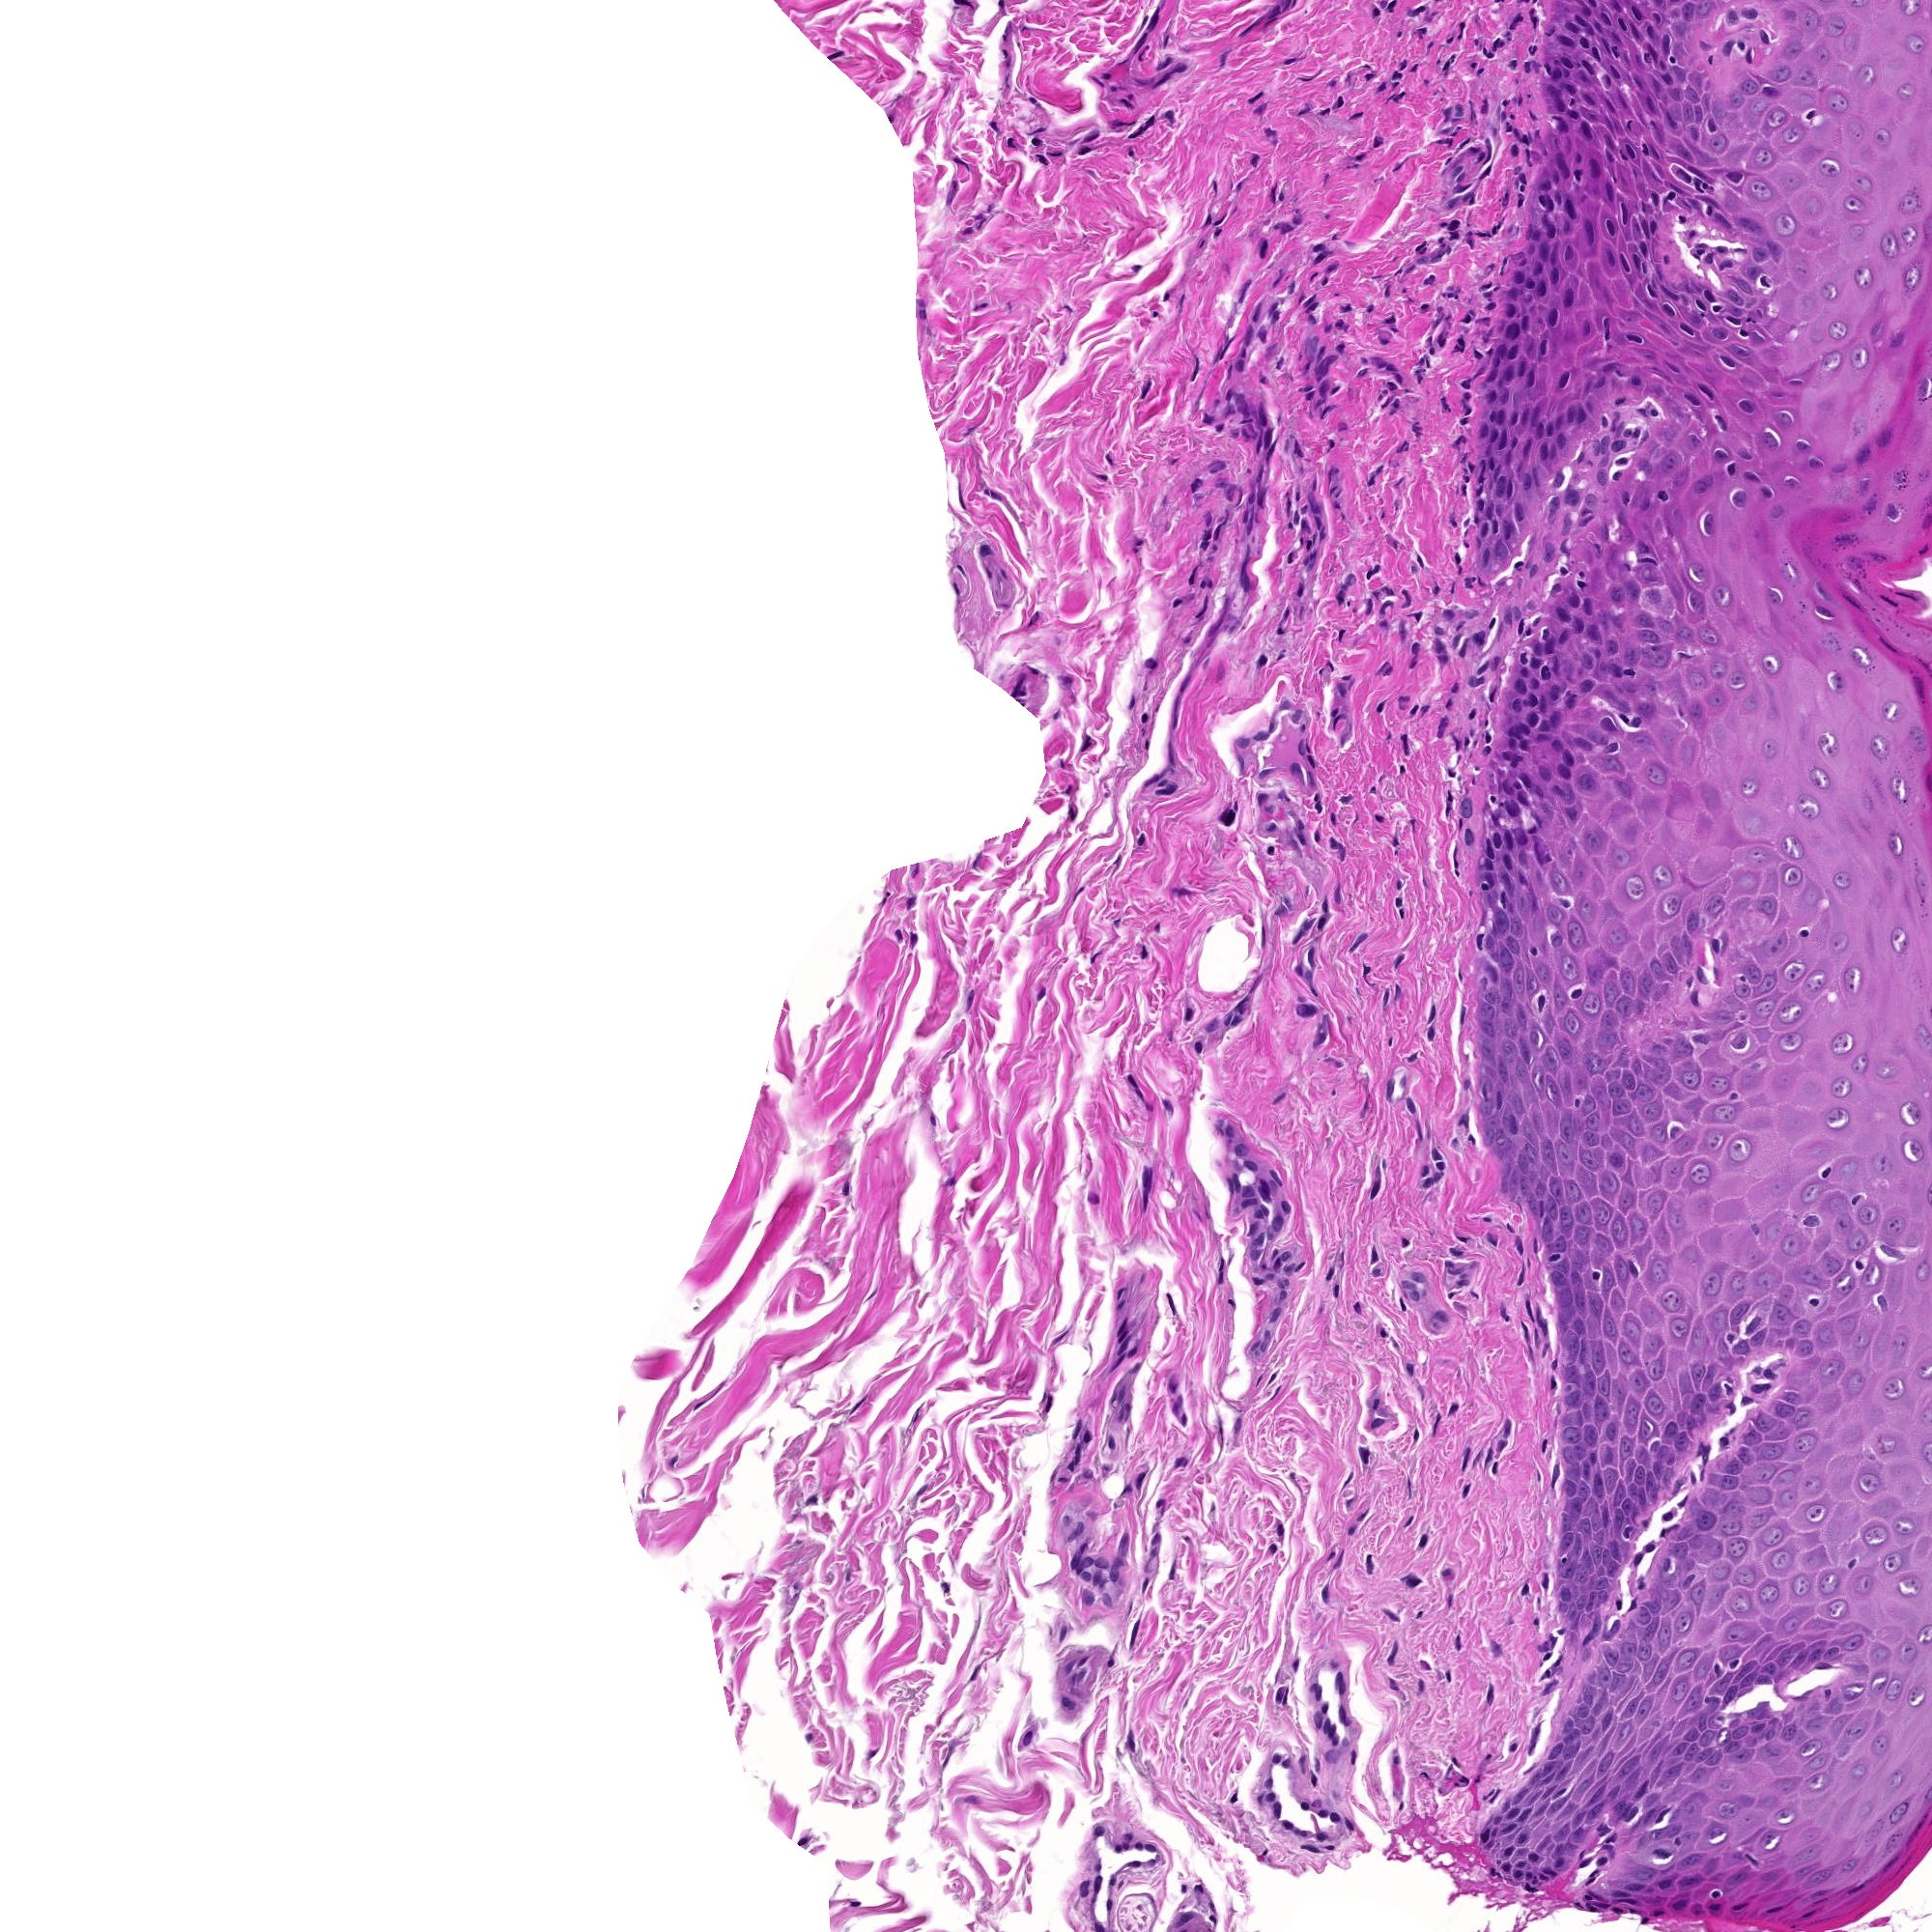epithelial: (1511, 271, 1545, 303), (1231, 416, 1263, 448), (1122, 527, 1154, 559), (1233, 1180, 1265, 1212), (1247, 1184, 1279, 1215), (1226, 1173, 1258, 1205), (1240, 1235, 1272, 1267), (1106, 1277, 1138, 1309), (1108, 1394, 1139, 1426), (1318, 1541, 1350, 1573), (1523, 271, 1555, 303), (1569, 113, 1601, 145), (1479, 391, 1511, 423), (1507, 264, 1539, 295), (1557, 99, 1589, 131), (1495, 290, 1527, 322), (1569, 27, 1601, 58), (1495, 303, 1527, 334), (1847, 439, 1879, 471), (1522, 253, 1553, 285), (1530, 437, 1562, 469), (1594, 352, 1626, 384), (1670, 159, 1702, 191), (1626, 234, 1658, 265), (1881, 324, 1913, 356), (1622, 242, 1654, 274), (1651, 62, 1683, 94), (1654, 278, 1686, 310), (1654, 104, 1686, 136), (1672, 311, 1704, 343), (1637, 274, 1668, 306), (1504, 257, 1536, 288), (1744, 73, 1776, 104), (1718, 281, 1750, 313), (1737, 257, 1769, 288), (1486, 464, 1518, 495), (1465, 451, 1497, 483), (1677, 425, 1709, 456), (1522, 410, 1553, 442), (1767, 403, 1799, 435), (1594, 67, 1626, 99), (1550, 403, 1582, 435), (1594, 226, 1626, 258), (1598, 110, 1629, 142), (1654, 34, 1686, 65), (1493, 398, 1525, 430), (1605, 320, 1637, 352), (1594, 120, 1626, 152), (1470, 341, 1502, 373), (1523, 182, 1555, 214), (1500, 343, 1532, 375), (1679, 90, 1711, 122), (1642, 2, 1674, 34), (1674, 271, 1706, 303), (1520, 435, 1552, 467), (1555, 34, 1587, 65), (1633, 225, 1665, 257), (1486, 375, 1518, 407), (1603, 203, 1635, 235), (1642, 44, 1674, 76), (1472, 366, 1504, 398), (1516, 702, 1548, 734), (1548, 754, 1580, 786), (1500, 715, 1532, 747), (1504, 823, 1536, 855), (1507, 782, 1539, 814), (1477, 826, 1509, 858), (1536, 706, 1568, 738), (1555, 685, 1587, 717), (1472, 867, 1504, 899), (1566, 727, 1598, 759), (1493, 828, 1525, 860), (1822, 665, 1854, 697), (1629, 694, 1661, 725), (1518, 669, 1550, 701), (1835, 584, 1867, 616), (1548, 768, 1580, 800), (1504, 768, 1536, 800), (1451, 791, 1483, 823), (1698, 888, 1730, 920), (1668, 929, 1700, 961), (1683, 554, 1714, 586), (1493, 874, 1525, 906), (1476, 876, 1507, 908), (1594, 679, 1626, 711), (1642, 635, 1674, 667), (1479, 793, 1511, 824), (1553, 782, 1585, 814), (1468, 830, 1500, 862), (1589, 517, 1621, 548), (1525, 803, 1557, 835), (1539, 694, 1571, 725), (1495, 931, 1527, 962), (1518, 722, 1550, 754), (1615, 1253, 1647, 1284), (1594, 1415, 1626, 1447), (1654, 1414, 1686, 1445), (1683, 1387, 1714, 1419), (1737, 1309, 1769, 1341), (1698, 1376, 1730, 1408), (1686, 1357, 1718, 1389), (1530, 1212, 1562, 1244), (1585, 1392, 1617, 1424), (1794, 1205, 1826, 1237), (1483, 1083, 1514, 1115), (1739, 1415, 1771, 1447), (1555, 1357, 1587, 1389), (1541, 1233, 1573, 1265), (1789, 1327, 1821, 1359), (1472, 1012, 1504, 1044), (1582, 1341, 1614, 1373), (1592, 1021, 1624, 1053), (1472, 1035, 1504, 1067), (1651, 1115, 1683, 1146), (1592, 1007, 1624, 1039), (1474, 984, 1506, 1016), (1523, 1192, 1555, 1224), (1591, 1168, 1622, 1200), (1486, 1054, 1518, 1086), (1479, 1118, 1511, 1150), (1851, 1200, 1882, 1231), (1493, 1168, 1525, 1200), (1642, 1035, 1674, 1067), (1645, 1836, 1677, 1868), (1663, 1888, 1695, 1920), (1674, 1865, 1706, 1897), (1723, 1891, 1755, 1923), (1534, 1752, 1566, 1783), (1573, 1881, 1605, 1913), (1624, 1776, 1656, 1808), (1587, 1813, 1619, 1845), (1591, 1704, 1622, 1736), (1506, 1799, 1537, 1831), (1698, 1813, 1730, 1845), (1578, 1794, 1610, 1826), (1601, 1893, 1633, 1925), (1589, 1500, 1621, 1532), (1642, 1895, 1674, 1927), (1727, 1440, 1759, 1472), (1752, 1821, 1783, 1852), (1509, 1859, 1541, 1891), (1716, 1727, 1748, 1759), (1614, 1884, 1645, 1916), (1550, 1548, 1582, 1580), (1615, 1750, 1647, 1782), (1835, 1681, 1867, 1713), (1550, 1729, 1582, 1760), (1709, 1665, 1741, 1697), (1571, 1688, 1603, 1720), (1771, 1640, 1803, 1672), (1504, 1842, 1536, 1874), (1592, 1826, 1624, 1858), (1746, 1704, 1778, 1736), (1525, 1852, 1557, 1884), (1681, 1782, 1713, 1813), (1686, 1706, 1718, 1737), (1596, 1663, 1628, 1695), (1633, 1789, 1665, 1821), (1683, 1757, 1714, 1789), (1541, 1776, 1573, 1808), (1442, 152, 1472, 186), (1500, 403, 1534, 433), (1536, 655, 1569, 685), (1875, 1847, 1905, 1881), (1633, 1803, 1667, 1833), (906, 295, 938, 326), (869, 881, 901, 911), (901, 1399, 931, 1431), (778, 1580, 810, 1610), (1306, 352, 1336, 384), (1247, 409, 1279, 439), (1230, 395, 1261, 425), (1249, 421, 1279, 453), (1207, 42, 1238, 73), (1233, 502, 1263, 534), (1299, 492, 1330, 522), (1242, 483, 1274, 513), (962, 844, 993, 876), (1251, 1175, 1283, 1205), (1212, 1115, 1242, 1146), (1261, 1247, 1293, 1277), (1421, 1300, 1453, 1330), (1421, 1405, 1451, 1437), (959, 1169, 991, 1200), (1083, 1562, 1113, 1594), (1169, 1900, 1200, 1932), (1062, 1661, 1093, 1691), (1063, 1647, 1093, 1679), (1024, 1773, 1054, 1805), (1555, 193, 1585, 225), (1497, 315, 1529, 345), (1532, 186, 1562, 218), (1606, 7, 1637, 39), (1550, 25, 1580, 57), (1553, 281, 1583, 313), (1614, 136, 1645, 166), (1730, 391, 1762, 421), (1573, 214, 1605, 244), (1578, 154, 1610, 184), (1552, 46, 1582, 78), (1560, 400, 1591, 432), (1536, 214, 1568, 244), (1553, 73, 1585, 103), (1594, 175, 1624, 207), (1635, 209, 1665, 241), (1560, 9, 1592, 39), (1539, 260, 1571, 290), (1621, 364, 1651, 396), (1691, 280, 1723, 310), (1476, 418, 1506, 449), (1628, 134, 1660, 165), (1635, 37, 1665, 69), (1684, 170, 1716, 200), (1562, 157, 1594, 188), (1477, 380, 1507, 412), (1569, 60, 1599, 92), (1520, 218, 1550, 249), (1578, 37, 1610, 67), (1472, 448, 1504, 478), (1529, 235, 1559, 267), (1507, 308, 1537, 340), (1511, 359, 1543, 389), (1651, 27, 1681, 58), (1610, 198, 1642, 228), (1748, 237, 1780, 267), (1598, 58, 1629, 88), (1573, 83, 1605, 113), (1541, 76, 1571, 108), (1635, 16, 1665, 48), (1707, 405, 1737, 437), (1589, 2, 1621, 32), (1543, 88, 1575, 119), (1534, 228, 1564, 260), (1555, 18, 1587, 48), (1511, 432, 1541, 464), (1506, 352, 1537, 382), (1591, 310, 1621, 341), (1677, 384, 1709, 414), (1679, 303, 1709, 334), (1718, 303, 1750, 333), (1562, 145, 1592, 177), (1605, 87, 1637, 117), (1553, 237, 1583, 269), (1465, 140, 1497, 170), (1695, 189, 1727, 219), (1668, 138, 1700, 168), (1720, 338, 1750, 370), (1778, 34, 1808, 65), (1713, 345, 1744, 375), (1453, 453, 1484, 483), (1594, 131, 1624, 163), (1497, 426, 1527, 458), (1566, 19, 1598, 50), (1610, 248, 1640, 280), (1548, 96, 1580, 126), (1614, 110, 1644, 142), (1576, 101, 1608, 131), (1677, 188, 1707, 219), (1660, 78, 1691, 108), (1583, 366, 1614, 398), (1704, 198, 1734, 230), (1642, 265, 1672, 297), (1536, 165, 1566, 196), (1525, 51, 1557, 81), (1502, 274, 1534, 304), (1635, 196, 1665, 228), (1474, 274, 1506, 304), (1529, 207, 1560, 237), (1479, 347, 1511, 377), (1612, 16, 1644, 46), (1555, 205, 1585, 237), (1739, 301, 1769, 333), (1536, 242, 1566, 274), (1513, 464, 1545, 494), (1493, 442, 1523, 474), (1688, 177, 1718, 209), (1514, 331, 1545, 363), (1594, 142, 1626, 172), (1543, 19, 1573, 51), (1642, 69, 1674, 99), (1697, 294, 1729, 324), (1548, 78, 1578, 110), (1596, 39, 1626, 71), (1622, 67, 1654, 97), (1594, 90, 1626, 120), (1727, 329, 1757, 361), (1500, 327, 1530, 359), (1886, 462, 1916, 494), (1598, 9, 1628, 41), (1566, 44, 1596, 76), (1651, 41, 1681, 73), (1640, 451, 1672, 481), (1568, 2, 1598, 34), (1644, 117, 1674, 149), (1665, 14, 1697, 44), (1822, 9, 1852, 41), (1476, 320, 1507, 350), (1488, 823, 1518, 855), (1516, 686, 1548, 717), (1506, 669, 1536, 701), (1497, 793, 1527, 824), (1527, 653, 1557, 685), (1529, 632, 1559, 663), (1474, 839, 1504, 870), (1490, 846, 1520, 878), (1539, 676, 1569, 708), (1507, 727, 1537, 759), (1499, 743, 1529, 775), (1578, 824, 1610, 855), (1829, 522, 1859, 554), (1522, 640, 1552, 672), (1562, 609, 1594, 639), (1693, 508, 1723, 540), (1571, 669, 1601, 701), (1578, 617, 1610, 648), (1557, 794, 1587, 826), (1532, 621, 1562, 653), (1599, 655, 1631, 685), (1679, 697, 1711, 727), (1677, 904, 1707, 936), (1548, 621, 1578, 653), (1571, 591, 1601, 623), (1468, 513, 1500, 543), (1529, 759, 1560, 789), (1479, 816, 1511, 846), (1559, 584, 1589, 616), (1592, 709, 1624, 740), (1468, 492, 1500, 522), (1509, 711, 1541, 741), (1598, 605, 1629, 635), (1486, 893, 1518, 924), (1628, 605, 1660, 635), (1509, 660, 1539, 692), (1486, 800, 1518, 830), (1681, 586, 1711, 617), (1525, 690, 1557, 720), (1608, 771, 1638, 803), (1750, 890, 1782, 920), (1525, 708, 1557, 738), (1541, 729, 1571, 761), (1541, 922, 1571, 954), (1596, 722, 1626, 754), (1854, 490, 1886, 520), (1465, 924, 1495, 955), (1875, 497, 1907, 527), (1614, 640, 1645, 671), (1488, 881, 1518, 913), (1568, 568, 1598, 600), (1486, 529, 1518, 559), (1534, 646, 1564, 678), (1518, 814, 1550, 844), (1564, 598, 1594, 630), (1633, 621, 1665, 651), (1522, 775, 1553, 805), (1619, 706, 1651, 736), (1534, 665, 1564, 697), (1633, 548, 1665, 579), (1700, 929, 1730, 961), (1506, 863, 1537, 893), (1629, 488, 1661, 518), (1759, 582, 1789, 614), (1506, 653, 1536, 685), (1479, 805, 1511, 835), (1571, 646, 1603, 676), (1808, 594, 1838, 626), (1520, 660, 1552, 690), (1516, 886, 1546, 918), (1610, 481, 1640, 513), (1509, 817, 1541, 847), (1465, 485, 1495, 517), (1603, 706, 1635, 736), (1571, 499, 1601, 531), (1879, 828, 1909, 860), (1612, 665, 1642, 697), (1477, 863, 1509, 893), (1477, 495, 1507, 527), (1596, 747, 1626, 778), (1660, 888, 1691, 918), (1863, 541, 1893, 573), (1895, 580, 1927, 610), (1840, 547, 1870, 579), (1760, 929, 1790, 961), (1527, 768, 1557, 800), (1587, 534, 1617, 566), (1723, 1297, 1755, 1327), (1497, 1108, 1527, 1139), (1550, 1033, 1580, 1065), (1727, 1330, 1757, 1362), (1767, 1394, 1798, 1426), (1541, 1246, 1571, 1277), (1773, 1387, 1803, 1419), (1766, 1297, 1796, 1329), (1541, 1258, 1571, 1290), (1587, 1263, 1619, 1293), (1629, 970, 1661, 1000), (1877, 1210, 1909, 1240), (1614, 1065, 1644, 1097), (1624, 1364, 1654, 1396), (1619, 991, 1651, 1021), (1509, 1035, 1539, 1067), (1534, 1046, 1566, 1076), (1668, 1031, 1698, 1063), (1612, 1184, 1642, 1215), (1898, 1097, 1930, 1127), (1744, 1408, 1775, 1440), (1562, 1311, 1594, 1341), (1472, 1001, 1502, 1033), (1562, 1332, 1594, 1362), (1642, 1353, 1674, 1384), (1603, 1092, 1635, 1122), (1575, 1366, 1605, 1398), (1867, 1284, 1897, 1316), (1638, 1389, 1668, 1421), (1477, 959, 1507, 991), (1610, 1338, 1640, 1369), (1679, 1090, 1709, 1122), (1594, 1311, 1624, 1343), (1552, 1284, 1583, 1315), (1557, 1419, 1589, 1449), (1608, 991, 1640, 1021), (1566, 1196, 1598, 1226), (1736, 1325, 1766, 1357), (1718, 1327, 1750, 1357), (1658, 1284, 1688, 1316), (1826, 1210, 1858, 1240), (1470, 1821, 1502, 1851), (1610, 1798, 1642, 1828), (1698, 1891, 1729, 1923), (1606, 1881, 1637, 1913), (1518, 1842, 1550, 1872), (1504, 1856, 1534, 1888), (1516, 1870, 1546, 1902), (1543, 1849, 1573, 1881), (1714, 1679, 1746, 1709), (1690, 1504, 1720, 1536), (1507, 1822, 1539, 1852), (1582, 1468, 1614, 1499), (1723, 1861, 1755, 1891), (1743, 1695, 1775, 1725), (1840, 1874, 1870, 1905), (1550, 1578, 1580, 1610), (1562, 1817, 1594, 1847), (1674, 1845, 1706, 1875), (1507, 1780, 1539, 1810), (1695, 1741, 1727, 1771), (1732, 1656, 1762, 1688), (1752, 1658, 1783, 1688), (1622, 1798, 1654, 1828), (1477, 1856, 1509, 1886), (1529, 1759, 1559, 1790), (1580, 1787, 1612, 1817), (1592, 1442, 1624, 1472), (1702, 1654, 1732, 1686), (1525, 1863, 1555, 1895), (1488, 1803, 1518, 1835), (1495, 1810, 1527, 1840), (1631, 1858, 1663, 1888), (1743, 1713, 1773, 1744), (1608, 1497, 1640, 1527), (1576, 1442, 1606, 1474), (1477, 1813, 1509, 1844), (1713, 1465, 1744, 1495), (1555, 1472, 1587, 1502), (1612, 1514, 1642, 1546), (1642, 1817, 1674, 1847), (1709, 1891, 1741, 1921), (1555, 1720, 1587, 1750), (1576, 1619, 1608, 1649), (1589, 1750, 1621, 1780), (1509, 1851, 1539, 1882), (1792, 1898, 1822, 1930), (1755, 1861, 1785, 1893), (1541, 1757, 1573, 1787), (1815, 1637, 1847, 1667), (1571, 1454, 1601, 1486), (1888, 1790, 1920, 1821), (1651, 1550, 1681, 1582), (1642, 1454, 1674, 1484), (1649, 1847, 1679, 1879), (1605, 1790, 1635, 1822), (1552, 1527, 1583, 1557), (1838, 1626, 1870, 1656), (1782, 1642, 1813, 1672), (1729, 1842, 1759, 1874), (1622, 1458, 1654, 1488), (1675, 1720, 1706, 1752), (1603, 1502, 1633, 1534), (1568, 1697, 1598, 1729), (1803, 1640, 1833, 1672), (1721, 1718, 1752, 1750), (1805, 1861, 1836, 1891), (1803, 1881, 1835, 1911), (1642, 1734, 1672, 1766), (1727, 1739, 1757, 1771), (1504, 1812, 1534, 1844), (1640, 1463, 1672, 1493), (1578, 1681, 1608, 1713), (1716, 1491, 1748, 1522), (1755, 1736, 1785, 1767), (1819, 1688, 1849, 1720), (1583, 1578, 1614, 1610), (1585, 1610, 1615, 1642), (1633, 1614, 1665, 1644), (1626, 1806, 1658, 1836), (1727, 1651, 1759, 1681), (1564, 1801, 1594, 1833), (1594, 1541, 1624, 1573), (1663, 1534, 1693, 1566), (1559, 1456, 1591, 1486), (1576, 1585, 1608, 1615), (1555, 1500, 1587, 1530), (1562, 1479, 1592, 1511), (1587, 1660, 1619, 1690), (1631, 1603, 1663, 1633), (1571, 12, 1605, 41), (1658, 1819, 1691, 1847), (938, 173, 968, 203), (941, 573, 971, 603), (901, 855, 931, 885), (773, 1185, 803, 1215), (906, 1016, 936, 1046), (906, 1476, 936, 1506), (833, 1559, 863, 1589), (1246, 402, 1276, 432), (1254, 428, 1284, 458), (1267, 893, 1297, 924), (1327, 674, 1357, 704), (1247, 1196, 1277, 1226), (1219, 1166, 1249, 1196), (1104, 1380, 1134, 1410), (1244, 1330, 1274, 1361), (1244, 1224, 1274, 1254), (1108, 1309, 1138, 1339), (1053, 1688, 1083, 1718), (1054, 1654, 1085, 1684), (1539, 58, 1569, 88), (1483, 402, 1513, 432), (1548, 364, 1578, 395), (1495, 338, 1525, 368), (1537, 303, 1568, 333), (1720, 161, 1750, 191), (1870, 423, 1900, 453), (1534, 414, 1564, 444), (1619, 322, 1649, 352), (1493, 359, 1523, 389), (1571, 50, 1601, 80), (1548, 110, 1578, 140), (1484, 338, 1514, 368), (1688, 288, 1718, 318), (1706, 318, 1736, 349), (1752, 425, 1782, 455), (1596, 244, 1626, 274), (1486, 426, 1516, 456), (1757, 234, 1787, 264), (1529, 172, 1559, 202), (1755, 76, 1785, 106), (1624, 18, 1654, 48), (1598, 30, 1628, 60), (1479, 361, 1509, 391), (1652, 295, 1683, 326), (1635, 88, 1665, 119), (1706, 441, 1736, 471), (1546, 425, 1576, 455), (1527, 331, 1557, 361), (1571, 313, 1601, 343), (1472, 407, 1502, 437), (1799, 448, 1829, 478), (1497, 280, 1527, 310), (1585, 430, 1615, 460), (1603, 430, 1633, 460), (1654, 448, 1684, 478), (1787, 432, 1817, 462), (1621, 0, 1651, 30), (1550, 184, 1580, 214), (1518, 398, 1548, 428), (1736, 462, 1766, 492), (1520, 166, 1550, 196), (1640, 182, 1670, 212), (1661, 60, 1691, 90), (1734, 71, 1764, 101), (1683, 161, 1713, 191), (1553, 156, 1583, 186), (1543, 161, 1573, 191), (1587, 9, 1617, 39), (1658, 51, 1688, 81), (1589, 359, 1619, 389), (1631, 449, 1661, 479), (1638, 138, 1668, 168), (1587, 34, 1617, 64), (1488, 322, 1518, 352), (1766, 58, 1796, 88), (1543, 464, 1573, 494), (1484, 416, 1514, 446), (1534, 267, 1564, 297), (1511, 403, 1541, 433), (1651, 304, 1681, 334), (1553, 747, 1583, 777), (1571, 766, 1601, 796), (1610, 656, 1640, 686), (1509, 644, 1539, 674), (1493, 513, 1523, 543), (1516, 770, 1546, 800), (1596, 632, 1626, 662), (1601, 580, 1631, 610), (1500, 690, 1530, 720), (1725, 483, 1755, 513), (1491, 771, 1522, 801), (1486, 908, 1516, 938), (1527, 842, 1557, 872), (1474, 853, 1504, 883), (1617, 575, 1647, 605), (1631, 538, 1661, 568), (1490, 863, 1520, 893), (1499, 725, 1529, 755), (1557, 481, 1587, 511), (1539, 628, 1569, 658), (1504, 497, 1534, 527), (1529, 717, 1559, 747), (1481, 538, 1511, 568), (1495, 803, 1525, 833), (1545, 775, 1575, 805), (1647, 481, 1677, 511), (1479, 511, 1509, 541), (1610, 701, 1640, 731), (1507, 842, 1537, 872), (1642, 755, 1672, 786), (1638, 580, 1668, 610), (1702, 685, 1732, 715), (1762, 497, 1792, 527), (1490, 941, 1520, 971), (1522, 833, 1552, 863), (1874, 630, 1904, 660), (1534, 538, 1564, 568), (1606, 504, 1637, 534), (1615, 816, 1645, 846), (1591, 653, 1621, 683), (1674, 915, 1704, 945), (1550, 736, 1580, 766), (1658, 508, 1688, 538), (1550, 679, 1580, 709), (1534, 724, 1564, 754), (1559, 918, 1589, 948), (1518, 936, 1548, 966), (1601, 1145, 1631, 1175), (1559, 1384, 1589, 1414), (1725, 1026, 1755, 1056), (1575, 1421, 1605, 1451), (1743, 1322, 1773, 1352), (1552, 1113, 1582, 1143), (1472, 1024, 1502, 1054), (1580, 1292, 1610, 1322), (1675, 1407, 1706, 1437), (1532, 1134, 1562, 1164), (1506, 1001, 1536, 1031), (1815, 1249, 1845, 1279), (1576, 1047, 1606, 1077), (1601, 1076, 1631, 1106), (1550, 1201, 1580, 1231), (1785, 1311, 1815, 1341), (1629, 1419, 1660, 1449), (1707, 1001, 1737, 1031), (1875, 1235, 1905, 1265), (1637, 1095, 1667, 1125), (1575, 1122, 1605, 1152), (1790, 1260, 1821, 1290), (1534, 1858, 1564, 1888), (1651, 1868, 1681, 1898), (1497, 1796, 1527, 1826), (1491, 1836, 1522, 1867), (1644, 1799, 1674, 1829), (1621, 1872, 1651, 1902), (1490, 1852, 1520, 1882), (1541, 1736, 1571, 1766), (1718, 1453, 1748, 1483), (1759, 1895, 1789, 1925), (1700, 1882, 1730, 1913), (1560, 1491, 1591, 1522), (1504, 1790, 1534, 1821), (1718, 1644, 1748, 1674), (1775, 1716, 1805, 1746), (1635, 1594, 1665, 1624), (1635, 1468, 1665, 1499), (1697, 1686, 1727, 1716), (1619, 1691, 1649, 1721), (1683, 1895, 1713, 1925), (1645, 1658, 1675, 1688), (1658, 1755, 1688, 1785), (1746, 1663, 1776, 1693), (1546, 1835, 1576, 1865), (1599, 1536, 1629, 1566), (1596, 1642, 1626, 1672), (1635, 1900, 1665, 1930), (1546, 1817, 1576, 1847), (1624, 1479, 1654, 1509), (1665, 1734, 1695, 1764), (1706, 1683, 1736, 1713), (1799, 1707, 1829, 1737), (1679, 1686, 1709, 1716), (1695, 1851, 1725, 1881), (1543, 1789, 1573, 1819), (1645, 1442, 1675, 1472), (1573, 1545, 1603, 1575), (1675, 1642, 1706, 1672), (1729, 1785, 1759, 1815), (1599, 1778, 1629, 1808), (1658, 1583, 1688, 1614), (1606, 1483, 1637, 1513), (1594, 212, 1626, 241), (1654, 180, 1686, 209), (1548, 149, 1576, 180), (1691, 373, 1720, 405), (1539, 410, 1571, 439), (1461, 464, 1493, 492), (1472, 540, 1500, 571), (1598, 732, 1626, 764), (1516, 653, 1548, 681), (1583, 1891, 1615, 1920), (1619, 1488, 1647, 1520), (936, 1732, 964, 1762), (1734, 209, 1762, 239), (1601, 23, 1631, 51), (1546, 600, 1576, 628), (1723, 663, 1753, 692), (1509, 1146, 1539, 1175), (1663, 1421, 1693, 1449), (1598, 1552, 1626, 1582)
fibroblast and endothelial: (1302, 1803, 1334, 1836), (892, 885, 924, 916), (936, 1164, 968, 1196), (916, 1104, 948, 1136), (656, 1445, 688, 1477), (1148, 62, 1180, 94), (1023, 134, 1054, 166), (1405, 232, 1437, 264), (1125, 25, 1157, 57), (1138, 4, 1169, 35), (1325, 322, 1357, 354), (1304, 235, 1336, 267), (1240, 81, 1272, 113), (1405, 16, 1437, 48), (1322, 87, 1353, 119), (1240, 299, 1272, 331), (1240, 318, 1272, 350), (1307, 393, 1339, 425), (1304, 96, 1336, 127), (1315, 253, 1346, 285), (1355, 60, 1387, 92), (1201, 214, 1233, 246), (1288, 96, 1320, 127), (1093, 442, 1125, 474), (991, 39, 1023, 71), (1180, 464, 1212, 495), (1254, 117, 1286, 149), (1353, 292, 1385, 324), (1058, 134, 1090, 166), (1148, 34, 1180, 65), (1368, 324, 1399, 356), (1086, 460, 1118, 492), (1316, 456, 1348, 488), (1212, 801, 1244, 833), (1320, 828, 1352, 860), (1306, 906, 1338, 938), (970, 534, 1001, 566), (1054, 784, 1086, 816), (1389, 725, 1421, 757), (1056, 796, 1088, 828), (1003, 676, 1035, 708), (1254, 833, 1286, 865), (1125, 824, 1157, 856), (1284, 816, 1316, 847), (1288, 911, 1320, 943), (1136, 648, 1168, 679), (1371, 575, 1403, 607), (1279, 752, 1311, 784), (1325, 617, 1357, 649), (1116, 686, 1148, 718), (1288, 732, 1320, 764), (1364, 582, 1396, 614), (1131, 1162, 1162, 1194), (1116, 1065, 1148, 1097), (1242, 1265, 1274, 1297), (1368, 1316, 1399, 1348), (1373, 1072, 1405, 1104), (1261, 1205, 1293, 1237), (1157, 1369, 1189, 1401), (1129, 1182, 1161, 1214), (1258, 1299, 1290, 1330), (1341, 1290, 1373, 1322), (1371, 980, 1403, 1012), (1077, 1182, 1109, 1214), (1256, 1361, 1288, 1392), (1161, 1382, 1192, 1414), (1401, 1261, 1433, 1293), (1062, 1412, 1093, 1444), (1410, 1152, 1442, 1184), (1254, 1201, 1286, 1233), (1077, 1870, 1109, 1902), (1300, 1674, 1332, 1706), (1263, 1744, 1295, 1776), (1164, 1445, 1196, 1477), (1254, 1782, 1286, 1813), (1405, 1525, 1437, 1557), (1263, 1513, 1295, 1545), (1376, 1640, 1408, 1672), (1279, 1647, 1311, 1679), (1012, 1720, 1044, 1752), (1306, 1833, 1338, 1865), (1097, 1557, 1129, 1589), (1304, 1704, 1336, 1736), (1380, 1744, 1412, 1776), (1062, 1514, 1093, 1546), (1392, 1506, 1424, 1537), (1129, 1568, 1161, 1599), (1093, 1548, 1125, 1580), (1286, 1744, 1318, 1776), (1322, 1707, 1353, 1739), (1325, 1741, 1357, 1773), (1122, 1822, 1154, 1854), (1247, 1838, 1279, 1870), (1470, 156, 1502, 188), (1499, 48, 1530, 80), (1454, 223, 1486, 255), (1472, 37, 1504, 69), (1683, 232, 1714, 264), (1709, 248, 1741, 280), (1465, 219, 1497, 251), (1463, 623, 1495, 655), (1447, 725, 1479, 757), (1445, 635, 1477, 667), (1454, 566, 1486, 598), (1437, 784, 1468, 816), (1752, 1357, 1783, 1389), (1447, 1104, 1479, 1136), (1527, 1307, 1559, 1339), (1677, 982, 1709, 1014), (1750, 1366, 1782, 1398), (1440, 1254, 1472, 1286), (1445, 1764, 1477, 1796), (1576, 1861, 1608, 1893), (1509, 1571, 1541, 1603), (1536, 1624, 1568, 1656), (1497, 1730, 1529, 1762), (1479, 1631, 1511, 1663), (1461, 1762, 1493, 1794), (1378, 387, 1408, 421), (1293, 823, 1327, 853), (1378, 1668, 1408, 1702), (1297, 1817, 1327, 1851), (819, 39, 849, 71), (876, 101, 906, 133), (885, 918, 915, 950), (842, 1391, 874, 1421), (931, 1571, 961, 1603), (856, 1737, 886, 1769), (794, 1720, 824, 1752), (1007, 127, 1039, 157), (1132, 108, 1164, 138), (1247, 232, 1277, 264), (1028, 143, 1058, 175), (1382, 81, 1414, 111), (1069, 133, 1099, 165), (1076, 120, 1106, 152), (1325, 308, 1355, 340), (1382, 58, 1412, 90), (1039, 140, 1070, 170), (1258, 297, 1288, 329), (1295, 288, 1327, 318), (1373, 354, 1405, 384), (1164, 53, 1194, 85), (1154, 48, 1184, 80), (1300, 375, 1332, 405), (1238, 143, 1269, 175), (994, 127, 1026, 157), (1269, 212, 1299, 244), (1196, 407, 1228, 437), (1131, 373, 1161, 405), (1196, 205, 1228, 235), (1330, 292, 1361, 324), (1155, 58, 1187, 88), (1224, 347, 1254, 379), (1311, 375, 1343, 405), (1341, 99, 1371, 131), (1410, 290, 1440, 322), (1368, 349, 1398, 380), (1261, 177, 1292, 209), (1389, 432, 1419, 464), (1274, 44, 1304, 76), (1389, 50, 1419, 81), (1115, 138, 1146, 168), (1152, 280, 1182, 311), (1120, 253, 1152, 283), (1421, 326, 1451, 357), (1419, 241, 1451, 271), (1401, 414, 1433, 444), (993, 16, 1023, 48), (1253, 4, 1284, 34), (1408, 347, 1440, 377), (1090, 60, 1120, 92), (1180, 354, 1212, 384), (1141, 67, 1173, 97), (1322, 334, 1353, 364), (1292, 377, 1323, 407), (1217, 380, 1247, 412), (1277, 207, 1307, 239), (1399, 359, 1431, 389), (1316, 426, 1346, 458), (1410, 241, 1440, 272), (1139, 27, 1171, 57), (1203, 412, 1235, 442), (1357, 462, 1387, 494), (1129, 67, 1159, 99), (1132, 16, 1162, 48), (1265, 345, 1295, 377), (1201, 453, 1233, 483), (1244, 92, 1276, 122), (1348, 356, 1378, 387), (1150, 23, 1182, 53), (1307, 264, 1338, 295), (1233, 322, 1263, 354), (1246, 646, 1277, 676), (1302, 789, 1334, 819), (1072, 727, 1102, 759), (1295, 538, 1325, 570), (1362, 803, 1394, 833), (1295, 745, 1327, 775), (1191, 522, 1223, 552), (1247, 782, 1277, 814), (1403, 694, 1433, 725), (1357, 556, 1387, 587), (1309, 890, 1339, 922), (1129, 701, 1159, 732), (1139, 764, 1171, 794), (1230, 564, 1261, 594), (1293, 527, 1325, 557), (1166, 876, 1196, 908), (1129, 936, 1159, 968), (1307, 823, 1338, 855), (1200, 518, 1231, 548), (1369, 591, 1401, 621), (1256, 812, 1286, 844), (1019, 656, 1051, 686), (1189, 568, 1221, 598), (1401, 600, 1433, 630), (1274, 541, 1306, 571), (1053, 665, 1083, 697), (1017, 603, 1049, 633), (1399, 633, 1431, 663), (1384, 869, 1415, 899), (1053, 775, 1085, 805), (1247, 768, 1277, 800), (1384, 754, 1415, 784), (1391, 582, 1422, 612), (1008, 662, 1040, 692), (1131, 711, 1161, 743), (1341, 927, 1371, 959), (1318, 803, 1348, 835), (1265, 614, 1295, 646), (1382, 943, 1414, 973), (1371, 653, 1401, 685), (1387, 685, 1419, 715), (1230, 552, 1260, 584), (1380, 826, 1410, 858), (1330, 570, 1361, 602), (1382, 878, 1414, 908), (1286, 747, 1316, 778), (1421, 573, 1451, 605), (1322, 879, 1352, 911), (1154, 763, 1184, 794), (1226, 738, 1256, 770), (1403, 545, 1433, 577), (1155, 743, 1187, 773), (1327, 835, 1357, 867), (1279, 499, 1309, 531), (1376, 690, 1407, 722), (1415, 1008, 1447, 1039), (1359, 1173, 1391, 1203), (1182, 1031, 1214, 1062), (1109, 1332, 1139, 1364), (1359, 1240, 1389, 1272), (1412, 1162, 1444, 1192), (1295, 994, 1327, 1024), (1281, 1251, 1311, 1283), (1306, 1021, 1336, 1053), (1270, 1191, 1300, 1223), (1391, 1226, 1421, 1258), (1155, 1286, 1185, 1318), (1315, 1258, 1346, 1288), (1267, 1242, 1299, 1272), (1421, 1139, 1451, 1171), (1394, 1352, 1424, 1384), (1394, 1090, 1426, 1120), (1108, 1320, 1138, 1352), (1205, 1253, 1237, 1283), (1320, 1274, 1352, 1304), (1152, 1090, 1184, 1120), (1399, 1419, 1430, 1451), (1120, 1352, 1150, 1384), (1387, 1290, 1419, 1320), (1382, 975, 1412, 1007), (1361, 1256, 1392, 1286), (1162, 1394, 1194, 1424), (1168, 1403, 1200, 1433), (1224, 1132, 1254, 1164), (1421, 1155, 1453, 1185), (1118, 1336, 1148, 1368), (1258, 1164, 1290, 1194), (1267, 1274, 1299, 1304), (1215, 1286, 1246, 1318), (1122, 1074, 1152, 1106), (1263, 1083, 1295, 1113), (1044, 1322, 1076, 1352), (1256, 1215, 1288, 1246), (1299, 973, 1329, 1005), (1231, 1139, 1261, 1171), (1131, 1831, 1162, 1861), (1315, 1713, 1345, 1744), (1316, 1801, 1348, 1831), (1261, 1792, 1292, 1824), (1120, 1847, 1150, 1879), (1286, 1817, 1316, 1849), (1116, 1829, 1148, 1859), (1334, 1808, 1364, 1840), (1348, 1438, 1380, 1468), (1398, 1566, 1428, 1598), (1083, 1815, 1115, 1845), (1118, 1615, 1150, 1645), (1265, 1681, 1297, 1711), (1184, 1872, 1214, 1904), (1353, 1546, 1384, 1578), (1072, 1582, 1102, 1614), (1219, 1782, 1249, 1813), (1115, 1727, 1146, 1757), (1106, 1831, 1136, 1863), (1086, 1867, 1118, 1897), (1069, 1872, 1099, 1904), (1299, 1762, 1329, 1794), (1320, 1695, 1350, 1727), (1145, 1488, 1175, 1520), (1097, 1865, 1127, 1897), (1093, 1888, 1123, 1920), (1376, 1601, 1408, 1631), (1253, 1767, 1284, 1798), (1095, 1645, 1125, 1677), (1300, 1790, 1330, 1822), (1265, 1803, 1295, 1835), (959, 1658, 991, 1688), (1069, 1545, 1099, 1576), (1302, 1684, 1332, 1716), (1070, 1559, 1100, 1591), (1111, 1822, 1143, 1852), (1169, 1872, 1200, 1904), (1047, 1615, 1077, 1647), (1320, 1672, 1352, 1702), (1139, 1523, 1171, 1553), (1108, 1527, 1139, 1557), (1272, 1748, 1304, 1778), (1085, 1582, 1116, 1612), (1228, 1782, 1260, 1812), (1405, 1668, 1435, 1700), (1332, 1463, 1362, 1495), (1088, 1895, 1118, 1927), (1410, 1759, 1440, 1790), (1315, 1741, 1345, 1773), (1483, 28, 1514, 58), (1509, 124, 1541, 154), (1444, 329, 1476, 359), (1476, 216, 1506, 248), (1438, 209, 1468, 241), (1748, 23, 1780, 53), (1500, 4, 1530, 35), (1688, 239, 1720, 269), (1453, 301, 1483, 333), (1725, 28, 1755, 60), (1732, 37, 1762, 69), (1713, 32, 1744, 62), (1509, 50, 1541, 80), (1444, 425, 1474, 456), (1674, 214, 1704, 246), (1497, 113, 1527, 145), (1454, 182, 1484, 214), (1445, 11, 1477, 41), (1490, 182, 1520, 214), (1438, 278, 1468, 310), (1451, 387, 1481, 419), (1447, 173, 1477, 205), (1468, 92, 1500, 122), (1437, 46, 1468, 76), (1437, 188, 1468, 218), (1493, 87, 1525, 117), (1442, 96, 1472, 127), (1488, 96, 1518, 127), (1493, 106, 1523, 138), (1453, 821, 1484, 851), (1442, 543, 1472, 575), (1874, 586, 1905, 616), (1463, 662, 1493, 694), (1442, 628, 1474, 658), (1504, 609, 1536, 639), (1537, 488, 1569, 518), (1467, 653, 1497, 685), (1479, 648, 1509, 679), (1438, 671, 1468, 702), (1451, 623, 1483, 653), (1500, 600, 1530, 632), (1730, 1384, 1760, 1415), (1438, 1391, 1468, 1422), (1447, 1223, 1477, 1254), (1491, 1412, 1522, 1444), (1506, 1261, 1536, 1293), (1445, 1263, 1476, 1295), (1520, 1302, 1552, 1332), (1684, 961, 1716, 991), (1709, 1422, 1741, 1453), (1488, 1299, 1520, 1329), (1744, 1361, 1775, 1392), (1679, 971, 1711, 1001), (1622, 1543, 1654, 1573), (1474, 1679, 1506, 1709), (1518, 1723, 1550, 1753), (1569, 1845, 1599, 1877), (1587, 1845, 1617, 1877), (1541, 1647, 1573, 1677), (1467, 1442, 1499, 1472), (1451, 1474, 1481, 1506), (1477, 1449, 1507, 1481), (1530, 1638, 1562, 1668), (1566, 1890, 1598, 1920), (1442, 1626, 1472, 1658), (941, 145, 971, 175), (899, 922, 929, 952), (683, 1389, 713, 1419), (789, 1826, 819, 1856), (839, 1888, 869, 1918), (796, 1484, 826, 1514), (1154, 101, 1184, 131), (1021, 126, 1051, 156), (978, 110, 1008, 140), (1378, 368, 1408, 398), (1235, 14, 1265, 44), (1102, 110, 1132, 140), (1111, 87, 1141, 117), (1382, 361, 1412, 391), (1283, 435, 1313, 465), (1343, 142, 1373, 172), (1313, 347, 1343, 377), (1399, 51, 1430, 81), (1154, 773, 1184, 803), (1325, 582, 1355, 612), (1384, 888, 1414, 918), (1162, 586, 1192, 616), (1304, 508, 1334, 538), (1246, 720, 1276, 750), (1364, 692, 1394, 722), (1185, 598, 1215, 628), (1295, 939, 1325, 970), (1177, 563, 1207, 593), (1288, 510, 1318, 540), (1320, 701, 1350, 731), (1284, 920, 1315, 950), (1284, 575, 1315, 605), (1353, 591, 1384, 621), (1330, 784, 1361, 814), (1228, 727, 1258, 757), (1249, 757, 1279, 787), (1318, 816, 1348, 846), (1369, 609, 1399, 639), (1169, 669, 1200, 699), (1387, 616, 1417, 646), (1306, 518, 1336, 548), (1173, 998, 1203, 1028), (1217, 1005, 1247, 1035), (1226, 991, 1256, 1021), (1361, 1407, 1391, 1437), (1033, 1387, 1063, 1417), (1069, 1419, 1099, 1449), (1417, 998, 1447, 1028), (1026, 978, 1056, 1008), (1106, 1343, 1136, 1373), (1238, 1212, 1269, 1242), (1235, 1150, 1265, 1180), (1361, 1389, 1391, 1419), (1399, 1270, 1430, 1300), (1095, 1422, 1125, 1453), (1196, 1010, 1226, 1040), (1223, 1410, 1253, 1440), (1325, 1665, 1355, 1695), (1297, 1833, 1327, 1863), (1063, 1552, 1093, 1582), (1125, 1463, 1155, 1493), (1290, 1790, 1320, 1821), (1058, 1447, 1088, 1477), (1272, 1810, 1302, 1840), (1329, 1700, 1359, 1730), (1307, 1695, 1338, 1725), (1306, 1821, 1336, 1851), (1258, 1532, 1288, 1562), (1309, 1578, 1339, 1608), (1307, 1798, 1338, 1828), (1062, 1438, 1092, 1468), (1077, 1548, 1108, 1578), (1111, 1474, 1141, 1504), (1318, 1721, 1348, 1752), (1339, 1741, 1369, 1771), (1315, 1829, 1345, 1859), (1067, 1532, 1097, 1562), (1338, 1513, 1368, 1543), (1123, 1835, 1154, 1865), (1138, 1844, 1168, 1874), (1046, 1463, 1076, 1493), (1346, 1500, 1376, 1530), (1246, 1783, 1276, 1813), (1083, 1856, 1113, 1886), (1511, 4, 1541, 34), (1635, 396, 1665, 426), (1716, 2, 1746, 32), (1440, 846, 1470, 876), (1516, 554, 1546, 584), (1488, 605, 1518, 635), (1744, 1373, 1775, 1403), (1442, 1237, 1472, 1267), (1516, 1295, 1546, 1325), (1504, 1231, 1534, 1261), (1477, 1224, 1507, 1254), (1456, 1123, 1486, 1154), (1509, 1316, 1539, 1346), (1532, 1658, 1562, 1688), (1534, 1672, 1564, 1702), (1539, 1458, 1569, 1488), (1453, 1442, 1483, 1472), (1125, 115, 1154, 147), (1361, 127, 1392, 156), (1205, 338, 1237, 366), (1315, 96, 1346, 124), (1157, 1557, 1185, 1589), (1072, 1458, 1100, 1490), (1451, 366, 1479, 398), (832, 1173, 860, 1203), (1376, 304, 1405, 334), (1223, 1000, 1253, 1028), (1398, 1042, 1426, 1072), (1451, 398, 1479, 428), (1461, 51, 1490, 81), (1451, 809, 1479, 839), (1808, 1651, 1836, 1681)
lymphocyte: (1511, 134, 1545, 166), (1629, 1507, 1661, 1541), (1414, 264, 1445, 295), (1461, 338, 1493, 370), (1504, 184, 1536, 216), (1506, 163, 1537, 195), (1476, 607, 1507, 639), (1476, 678, 1507, 709), (1514, 612, 1546, 644), (1548, 886, 1580, 918), (1798, 1286, 1829, 1318), (1537, 1368, 1569, 1399), (1714, 1391, 1746, 1422), (1651, 1513, 1683, 1545), (1665, 1479, 1697, 1511), (1601, 1605, 1633, 1637), (1661, 1468, 1693, 1500), (1364, 71, 1396, 101), (1706, 234, 1736, 265), (1516, 35, 1548, 65), (1716, 453, 1746, 485), (1601, 460, 1633, 490), (1729, 317, 1759, 349), (1476, 290, 1506, 322), (1621, 416, 1651, 448), (1447, 410, 1477, 442), (1566, 442, 1598, 472), (1589, 405, 1619, 437), (1470, 303, 1500, 334), (1651, 244, 1683, 274), (1456, 699, 1488, 729), (1548, 556, 1580, 586), (1520, 605, 1552, 635), (1550, 533, 1580, 564), (1560, 978, 1592, 1008), (1844, 1249, 1875, 1279), (1527, 984, 1557, 1016), (1714, 1373, 1744, 1405), (1810, 1157, 1842, 1187), (1447, 1000, 1477, 1031), (1633, 1534, 1665, 1564), (1624, 1569, 1656, 1599), (1617, 1589, 1647, 1621), (1530, 1566, 1560, 1598), (1812, 1677, 1844, 1707), (1665, 1491, 1695, 1523), (1520, 1605, 1550, 1637), (1596, 1615, 1626, 1647), (1476, 1780, 1507, 1810), (1511, 1729, 1543, 1759), (1214, 395, 1244, 425), (1256, 824, 1286, 855), (1196, 1897, 1226, 1927), (1499, 134, 1529, 165), (1606, 446, 1637, 476), (1667, 203, 1697, 234), (1697, 110, 1727, 140), (1605, 386, 1635, 416), (1794, 99, 1824, 129), (1748, 265, 1778, 295), (1472, 727, 1502, 757), (1504, 550, 1534, 580), (1789, 918, 1819, 948), (1539, 1350, 1569, 1380), (1603, 1589, 1633, 1619), (1652, 1500, 1683, 1530)
